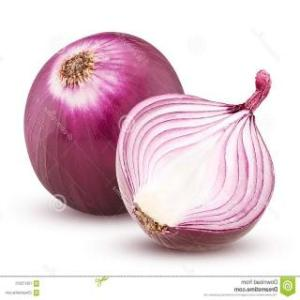onion: (23, 31, 185, 217), (112, 78, 278, 254)
